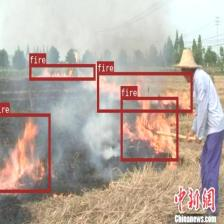fire: (0, 113, 50, 192), (97, 72, 192, 112), (120, 96, 178, 161), (29, 64, 95, 80)
